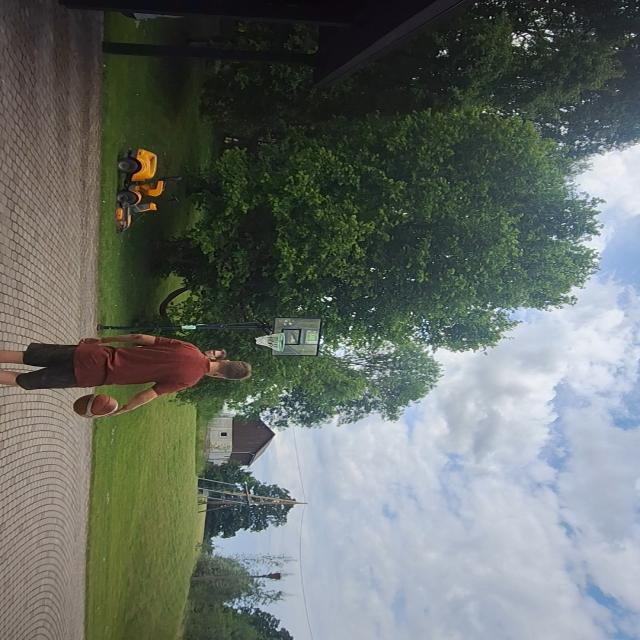ball: (70, 393, 121, 419)
hoop: (254, 331, 288, 353)
player: (0, 330, 254, 420), (204, 347, 229, 361)
